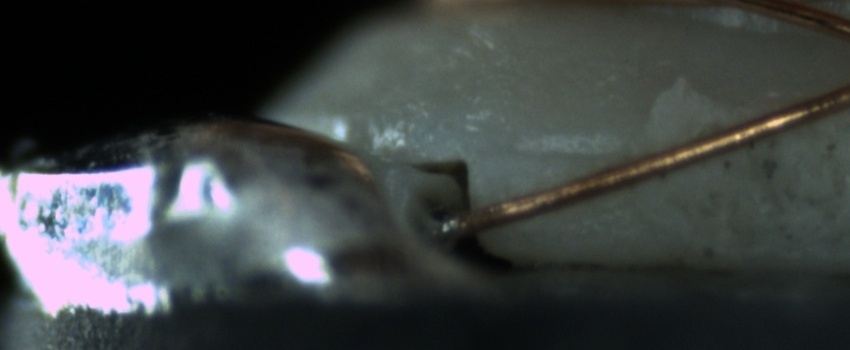DL: (501, 120, 641, 184)
